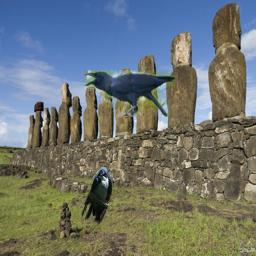Crow: (84, 70, 175, 117)
Swallow: (80, 167, 113, 226)
